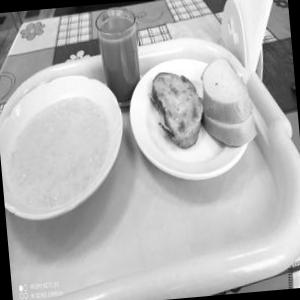bread: (200, 44, 253, 162)
cheese_sandwich: (136, 60, 212, 158)
coffee: (87, 2, 149, 110)
porridge: (0, 82, 125, 215)
